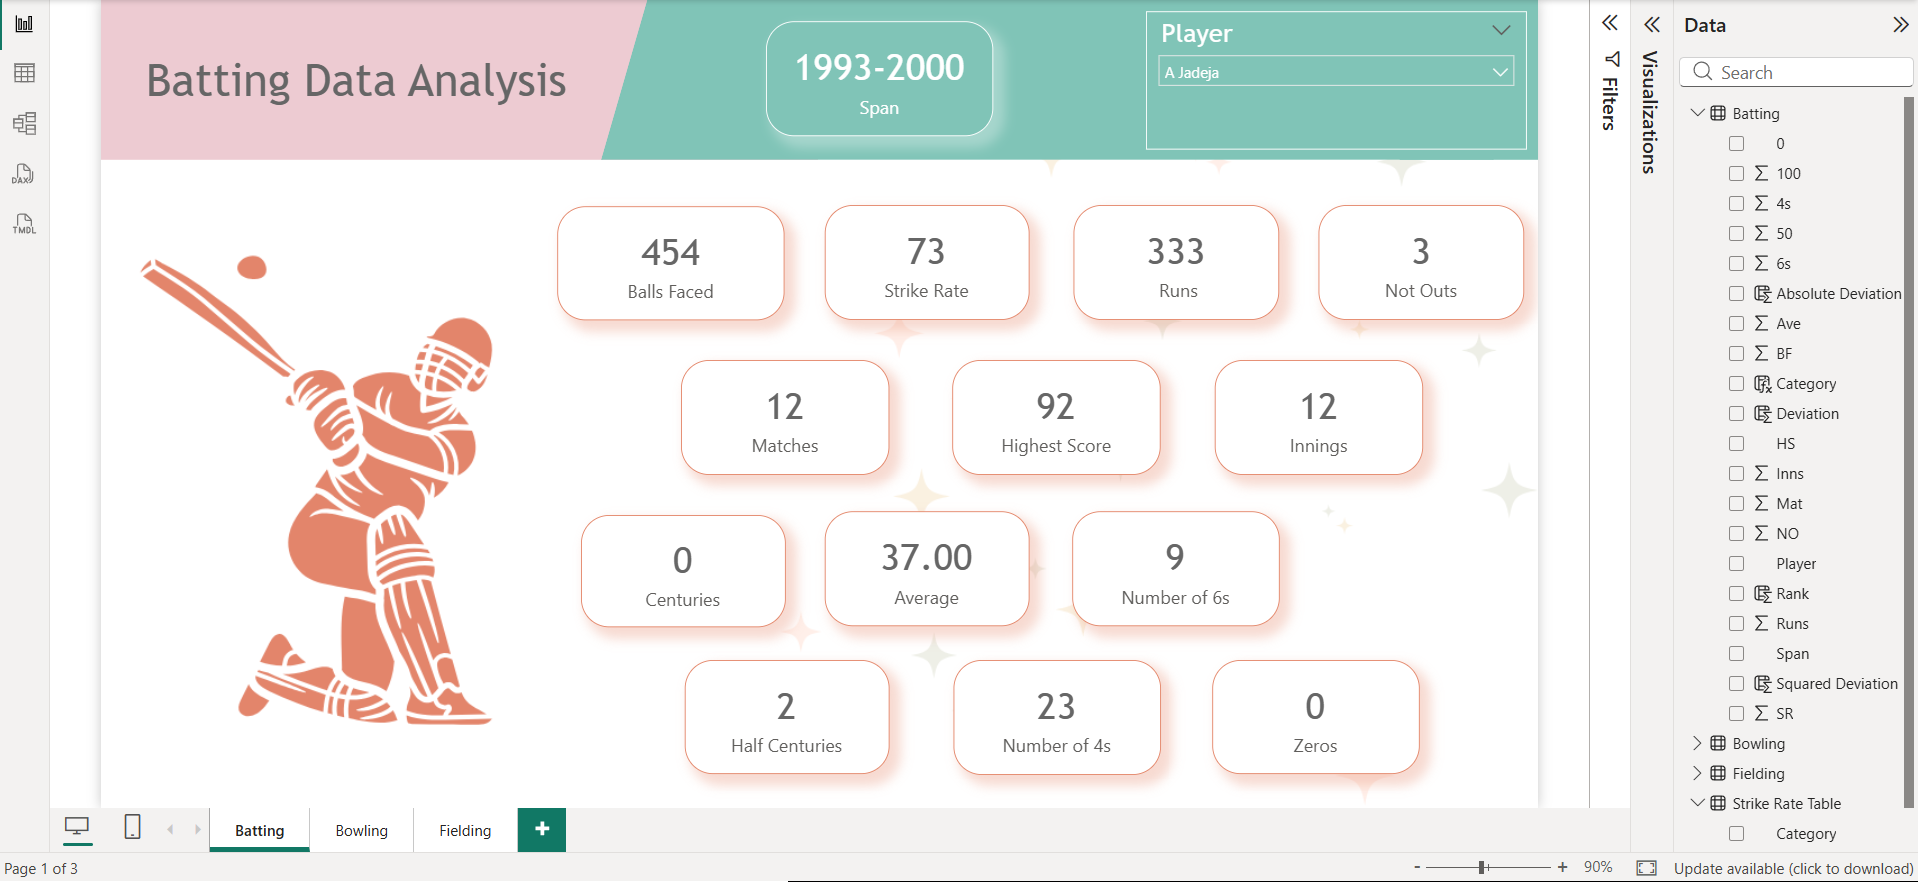

This screenshot's page, from the dashboard's own definition file:
{"tool":"powerbi","page":{"name":"Batting","canvas":[1280,720],"ordinal":0},"visuals":[{"type":"shape","box":[0,0,638.5,142.3],"z":0},{"type":"shape","box":[445.2,0,836.1,142.4],"z":1000},{"type":"shape","box":[1156.7,0,124.1,142.3],"z":2000},{"type":"slicer","fields":{"Values":["Batting.Player"]},"box":[930.2,9.7,339,123.1],"z":3000},{"type":"card","fields":{"Values":["Min(Batting.Span)"]},"box":[592.4,19.3,202.7,102.5],"z":4000},{"type":"card","fields":{"Values":["Sum(Batting.SR)"]},"box":[644.2,182.2,182.2,102.5],"z":5000},{"type":"card","fields":{"Values":["Sum(Batting.Runs)"]},"box":[866.2,182.2,183.4,102.5],"z":6000},{"type":"card","fields":{"Values":["Sum(Batting.NO)"]},"box":[1084.6,182.2,183.4,102.5],"z":7000},{"type":"card","fields":{"Values":["Sum(Batting.Mat)"]},"box":[516.4,320.9,185.8,102.5],"z":8000},{"type":"card","fields":{"Values":["Sum(Batting.Inns)"]},"box":[991.7,320.9,185.8,102.5],"z":9000},{"type":"card","fields":{"Values":["Min(Batting.HS)"]},"box":[757.6,320.9,185.8,102.5],"z":10000},{"type":"card","fields":{"Values":["Sum(Batting.BF)"]},"box":[406.6,183.4,202.7,101.3],"z":11000},{"type":"card","fields":{"Values":["Sum(Batting.Ave)"]},"box":[644.2,454.8,182.2,102.5],"z":12000},{"type":"card","fields":{"Values":["Sum(Batting.6s)"]},"box":[865,454.8,184.6,102.5],"z":13000},{"type":"card","fields":{"Values":["Sum(Batting.4s)"]},"box":[758.9,587.5,184.6,102.5],"z":14000},{"type":"card","fields":{"Values":["Sum(Batting.50)"]},"box":[520,587.5,182.2,101.3],"z":15000},{"type":"card","fields":{"Values":["Sum(Batting.100)"]},"box":[427.1,458.4,182.2,100.1],"z":16000},{"type":"card","fields":{"Values":["Min(Batting.0)"]},"box":[989.3,587.5,184.6,101.3],"z":17000}]}

Visuals, with their boxes on the page's 1280x720 design canvas (x1, y1, x2, y2). These are canvas units, not pixel positions in the 1918x882 screenshot, which may show the page scaled, cropped or inside an application window:
shape: bbox(0, 0, 638, 142)
shape: bbox(445, 0, 1281, 142)
shape: bbox(1157, 0, 1281, 142)
slicer - Batting.Player: bbox(930, 10, 1269, 133)
card - Min(Batting.Span): bbox(592, 19, 795, 122)
card - Sum(Batting.SR): bbox(644, 182, 826, 285)
card - Sum(Batting.Runs): bbox(866, 182, 1050, 285)
card - Sum(Batting.NO): bbox(1085, 182, 1268, 285)
card - Sum(Batting.Mat): bbox(516, 321, 702, 423)
card - Sum(Batting.Inns): bbox(992, 321, 1178, 423)
card - Min(Batting.HS): bbox(758, 321, 943, 423)
card - Sum(Batting.BF): bbox(407, 183, 609, 285)
card - Sum(Batting.Ave): bbox(644, 455, 826, 557)
card - Sum(Batting.6s): bbox(865, 455, 1050, 557)
card - Sum(Batting.4s): bbox(759, 588, 944, 690)
card - Sum(Batting.50): bbox(520, 588, 702, 689)
card - Sum(Batting.100): bbox(427, 458, 609, 558)
card - Min(Batting.0): bbox(989, 588, 1174, 689)
